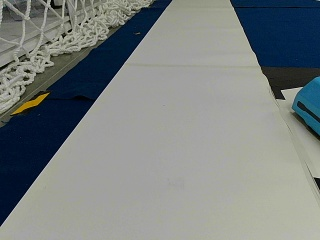car: (290, 74, 319, 136)
